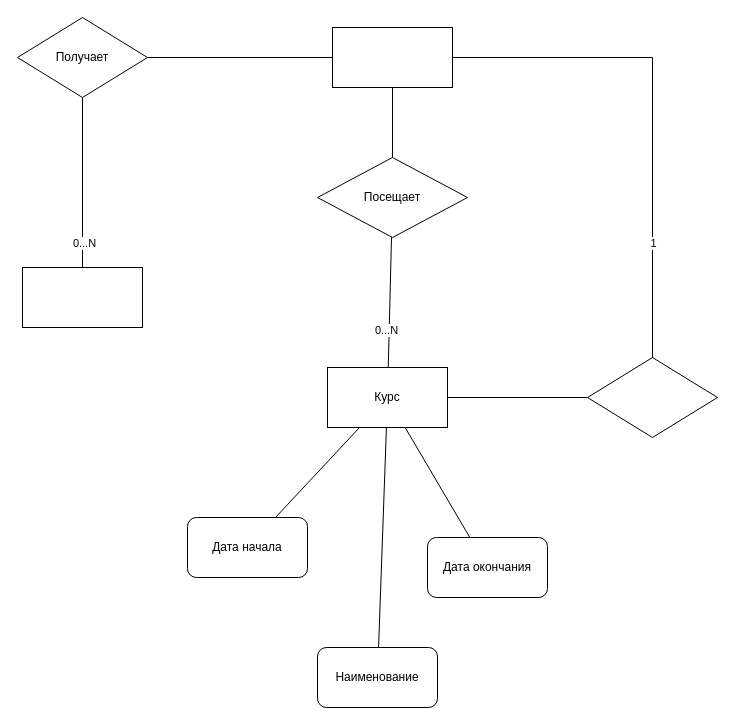
Some shapes in this 735 by 725 pixel diagram are drawn without their labels. The shapes that lost their labels are listed below. From the top down, each one's centre as x and y in pixels, then its label:
At (x=392, y=57): "Сотрудник".
At (x=82, y=297): "Свидетельство".
At (x=652, y=397): "Ведет".
